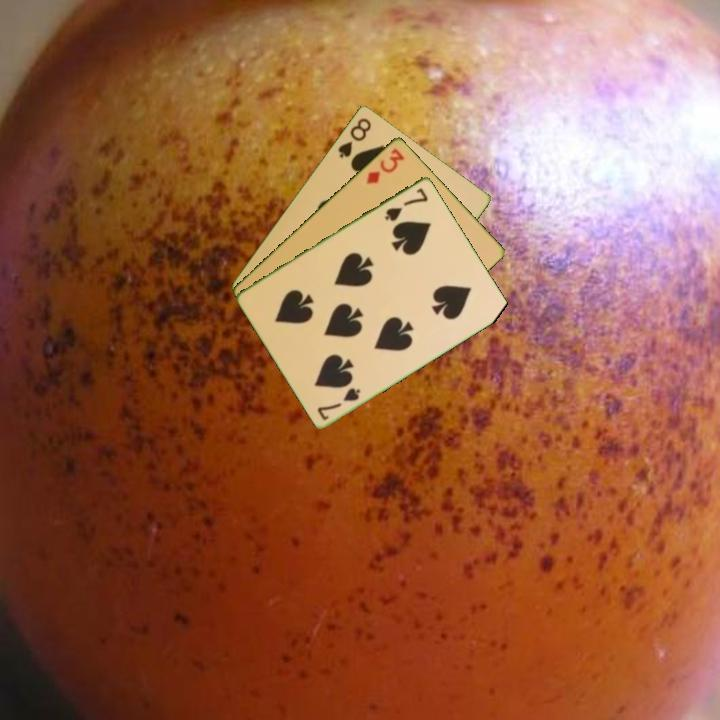3d: (362, 144, 407, 187)
7s: (381, 184, 431, 224), (314, 384, 363, 423)
8s: (334, 114, 374, 161)
